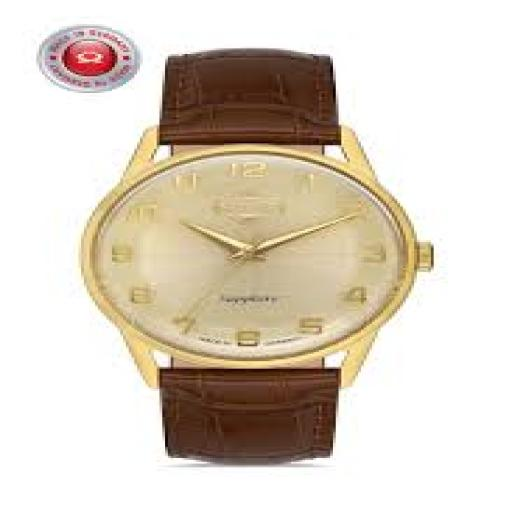KolSaati: (80, 35, 434, 489)
